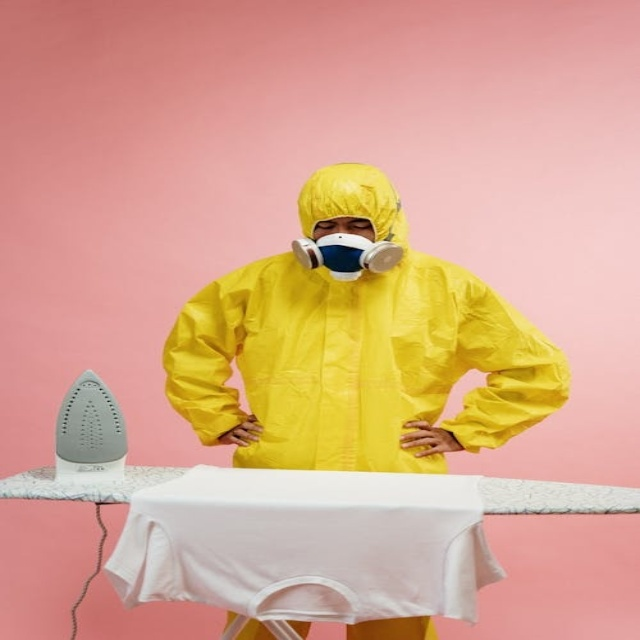Mascara: (293, 232, 405, 280)
Sin_gafas: (312, 216, 372, 234)
Sin_guantes: (398, 414, 468, 458), (218, 412, 263, 446)
